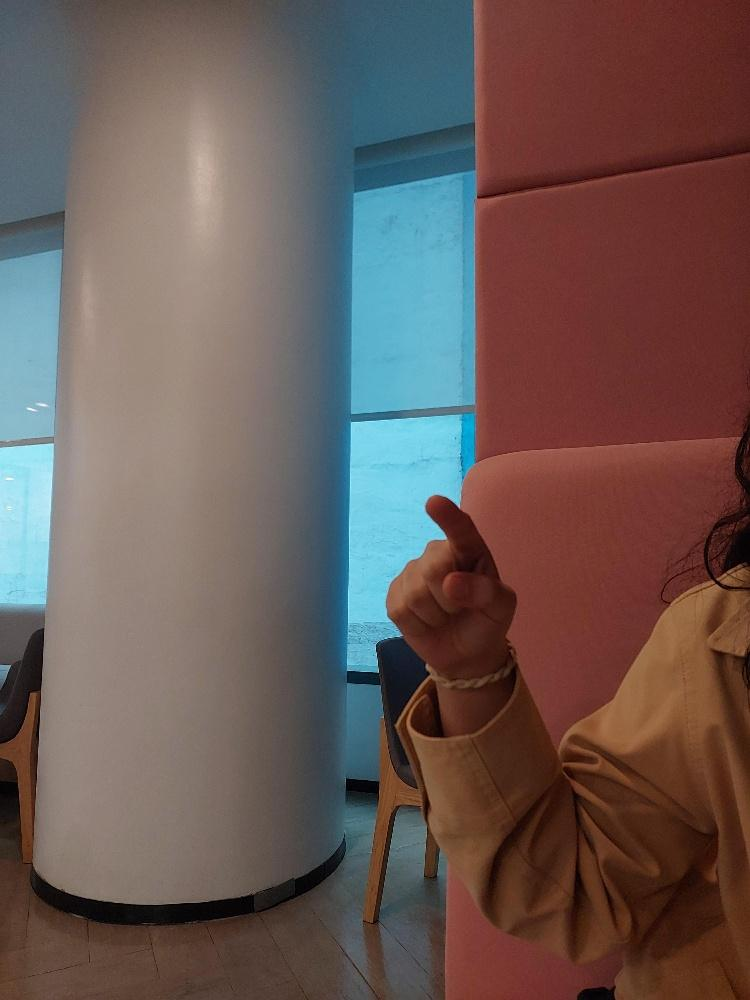z: (382, 490, 521, 684)
